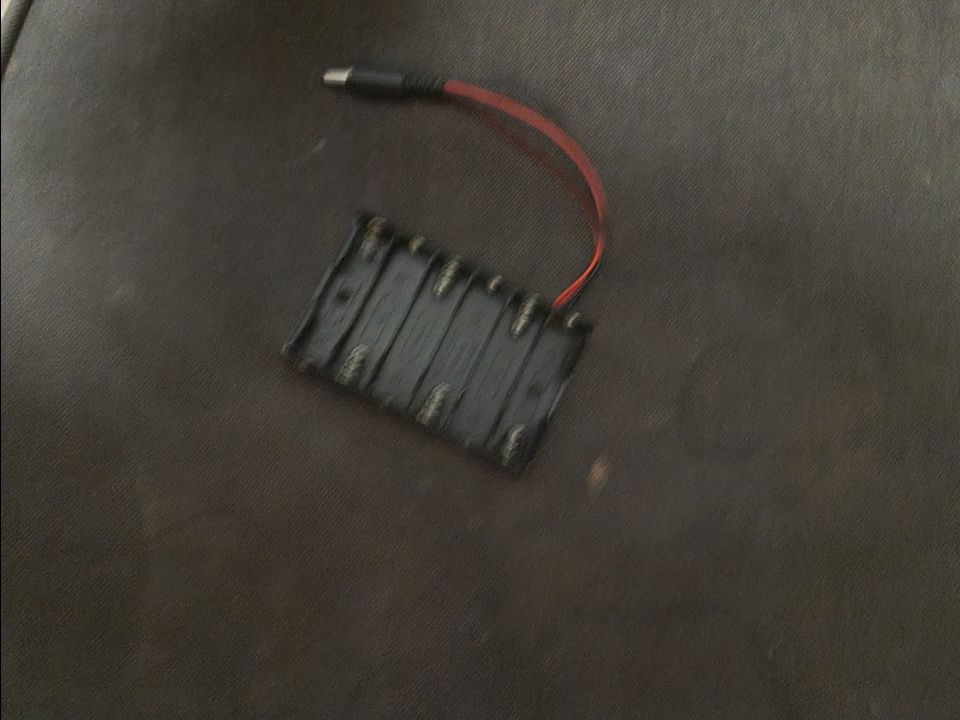BATTERY BOX: (262, 225, 599, 453)
